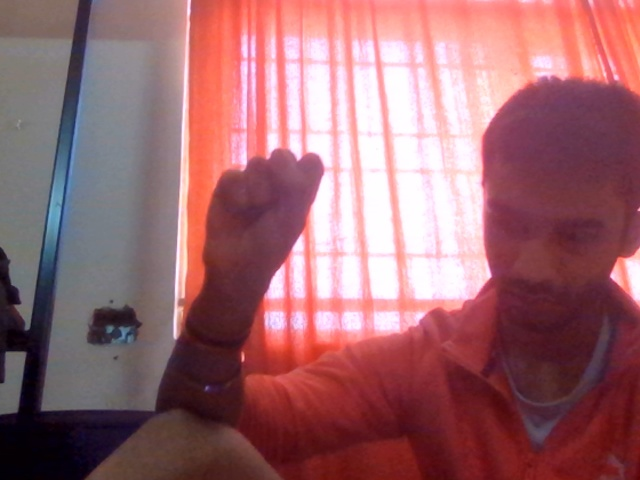S: (174, 119, 340, 325)
